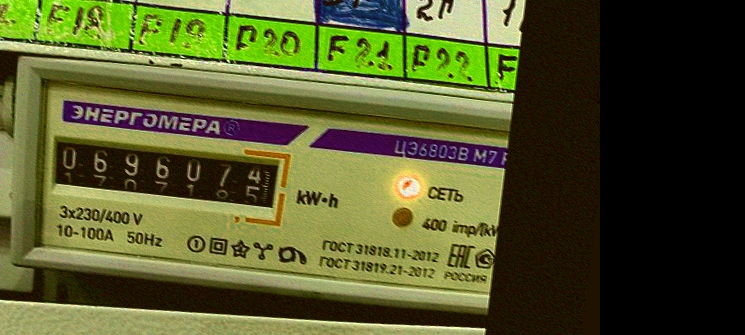0: (58, 143, 78, 170), (183, 155, 202, 182)
4: (245, 161, 262, 184)
5: (243, 183, 259, 204)
6: (88, 145, 109, 172), (152, 151, 171, 180)
7: (214, 159, 233, 187)
9: (120, 149, 140, 177)
screen: (40, 121, 293, 227)
